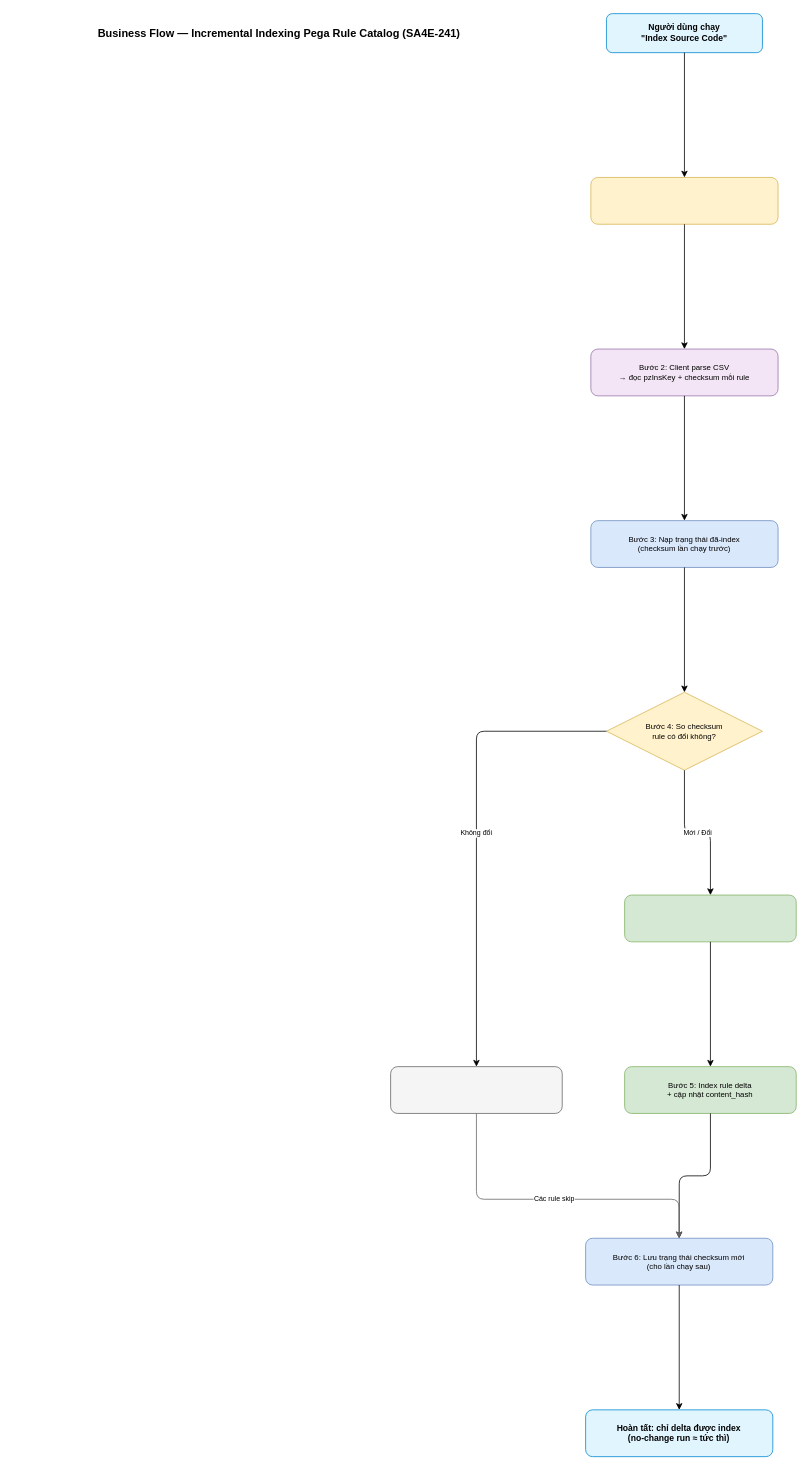
Some shapes in this 810 by 1470 pixel diagram are drawn without their labels. Each missing label, with the centre of its shape:
Bước 1: Yêu cầu Rule Catalog Export (Pega xuất CSV có cột checksum): point 684,200
Rule không đổi → SKIP (không fetch, không index): point 476,1089
Rule mới/đổi → Fetch chi tiết (delta): point 710,918
